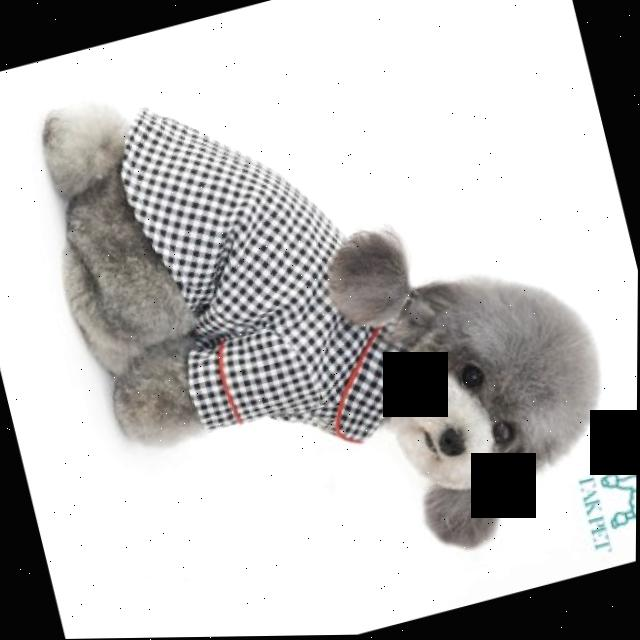cloth: (120, 110, 407, 442)
